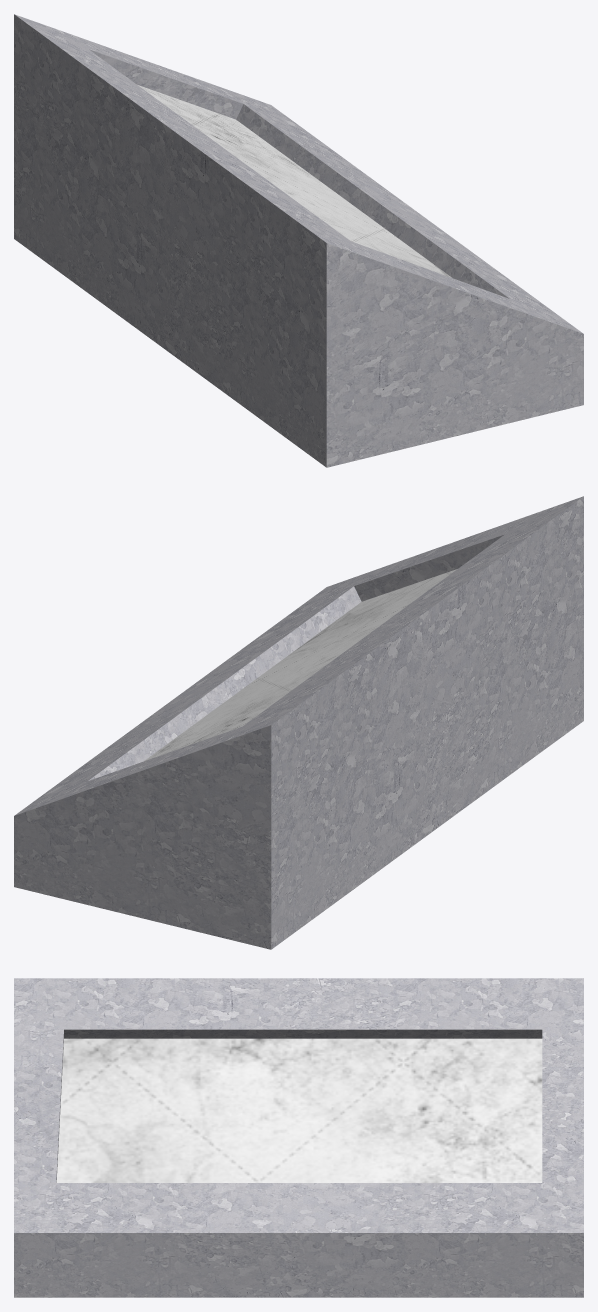
The model's file is Light_2.fbx.
The picture shows the model from 3 angles, top to bottom: view 1: azimuth 30°, elevation 25°; view 2: azimuth 150°, elevation 25°; view 3: azimuth 270°, elevation 25°; orthographic projection. The views are drawn at different scales.
Visible parts, largest first — view 1: Component_1_1; view 2: Component_1_1; view 3: Component_1_1.
Part boxes in pixels (x1=…): Component_1_1: x1=14, y1=14, x2=583, y2=467; Component_1_1: x1=14, y1=496, x2=583, y2=949; Component_1_1: x1=14, y1=978, x2=583, y2=1297.
Size of the model in its own units: 8.46 by 7.06 by 17.81.
